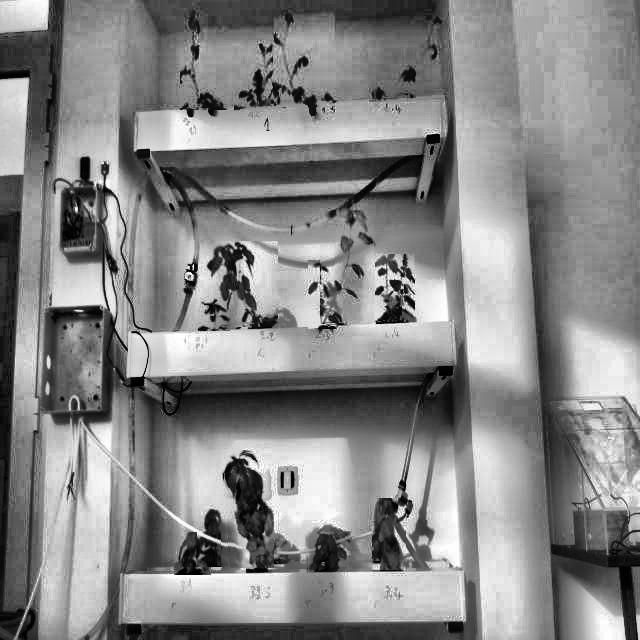plants: (369, 12, 444, 102), (320, 210, 376, 324), (204, 241, 278, 327), (222, 450, 274, 568), (274, 13, 335, 107), (180, 10, 228, 110), (234, 44, 287, 112), (375, 254, 415, 322), (372, 498, 406, 570), (306, 524, 352, 572), (308, 260, 338, 329), (197, 509, 227, 567), (174, 532, 211, 575), (198, 297, 230, 331)
